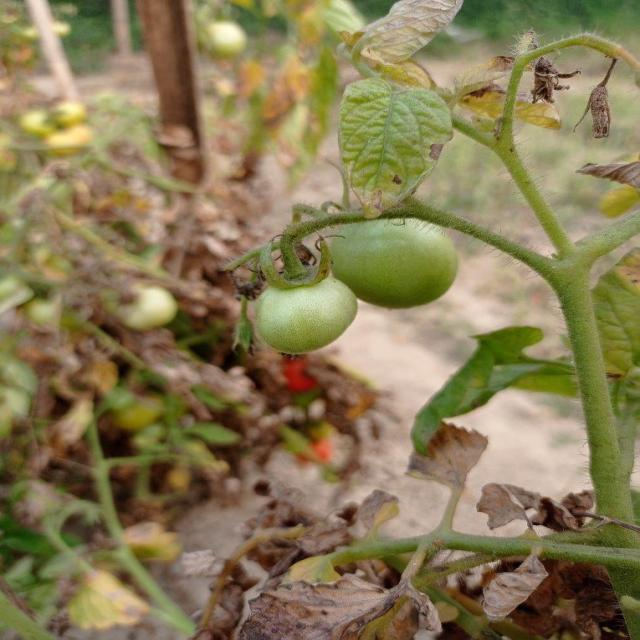Unripe: (332, 213, 460, 311), (252, 268, 360, 356)
